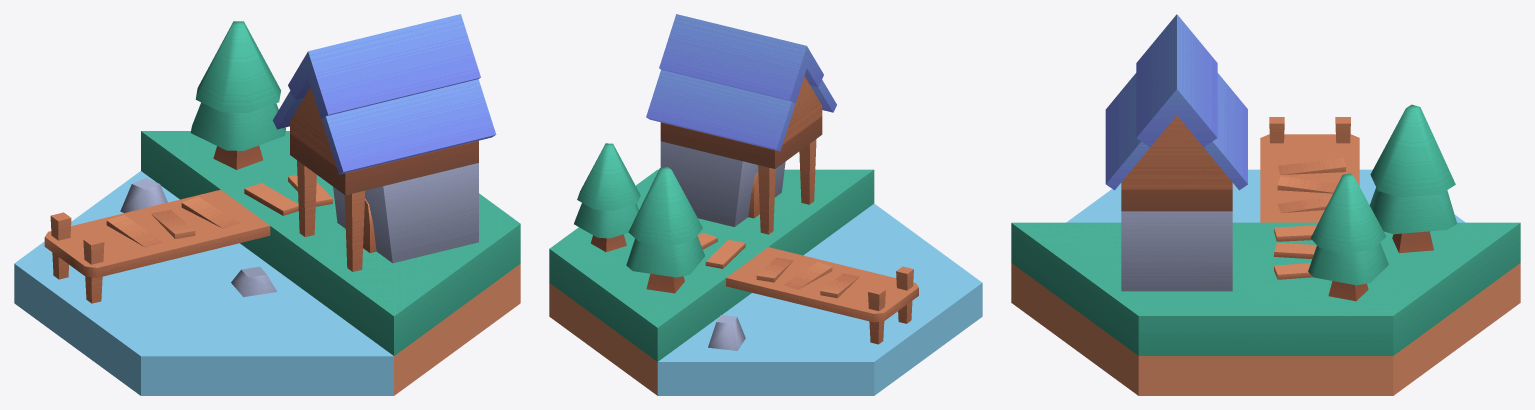
File: building-port.glb
3 renders of one model, left to right at view 1: azimuth 30°, elevation 25°; view 2: azimuth 150°, elevation 25°; view 3: azimuth 270°, elevation 25°, orthographic. The views are drawn at different scales.
Parts seen in each view (by area): view 1: building-port; view 2: building-port; view 3: building-port.
Part boxes in pixels (<box>): building-port: <box>14,14,520,395</box>; building-port: <box>549,14,982,395</box>; building-port: <box>1011,14,1520,395</box>.
Bounding box in the file's own units: 1 × 0.7176 × 1.15.
Materials: 1 (1 with a texture image).
